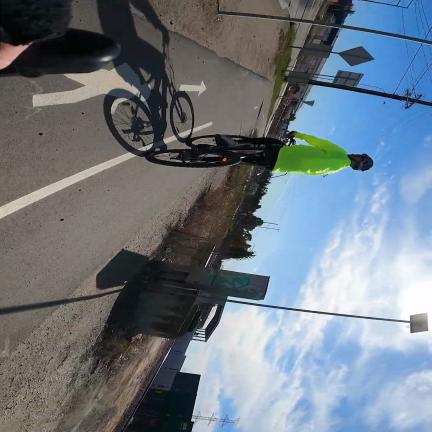Bike_Lane: (0, 18, 270, 307)
